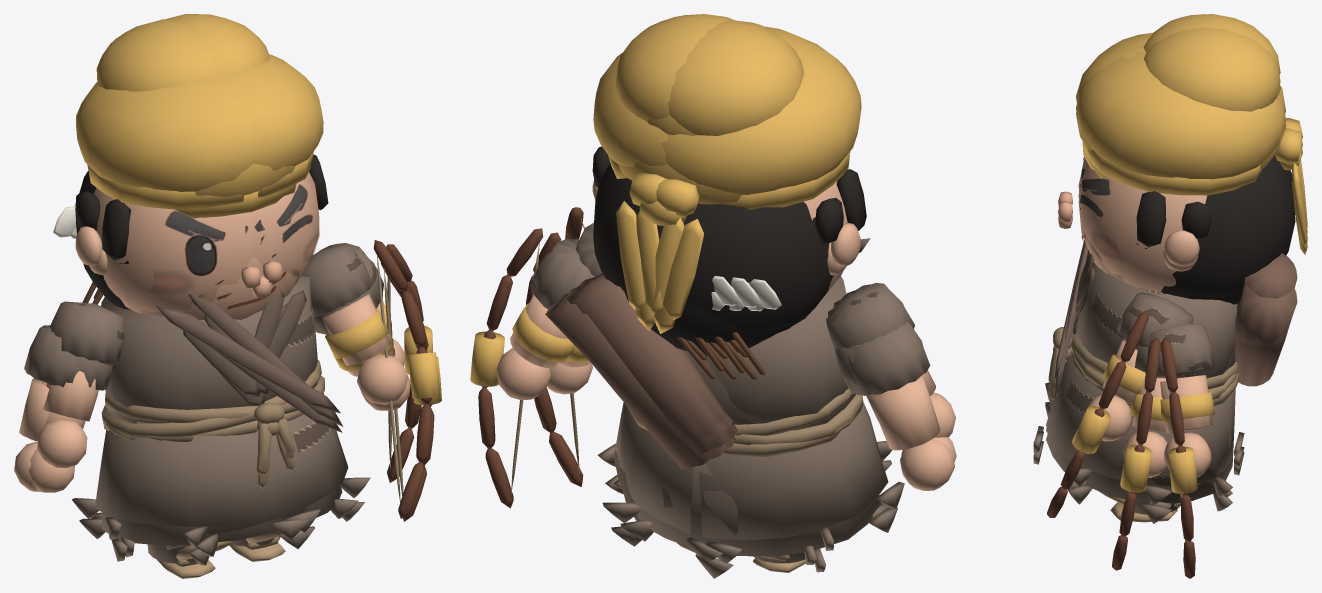
File: yt_archer_poses.glb
The picture shows the model from 3 angles, left to right: view 1: azimuth 30°, elevation 25°; view 2: azimuth 150°, elevation 25°; view 3: azimuth 270°, elevation 25°; orthographic projection. The views are drawn at different scales.
Parts seen in each view (by area): view 1: pose_1, pose_3, pose_0; view 2: pose_1, pose_3, pose_0; view 3: pose_3, pose_1, pose_0.
Boxes of the visible parts, box(x1,y1,x2,y2) form: pose_1: box(14, 19, 439, 557); pose_3: box(37, 14, 432, 560); pose_0: box(28, 163, 441, 578); pose_1: box(565, 20, 954, 564); pose_3: box(470, 14, 955, 563); pose_0: box(526, 115, 956, 578); pose_3: box(1035, 27, 1307, 578); pose_1: box(1033, 14, 1307, 517); pose_0: box(1033, 85, 1307, 570).
Bounding box in the file's own units: 1.37 × 1.56 × 0.9645.
Materials: 14 (2 with a texture image).
